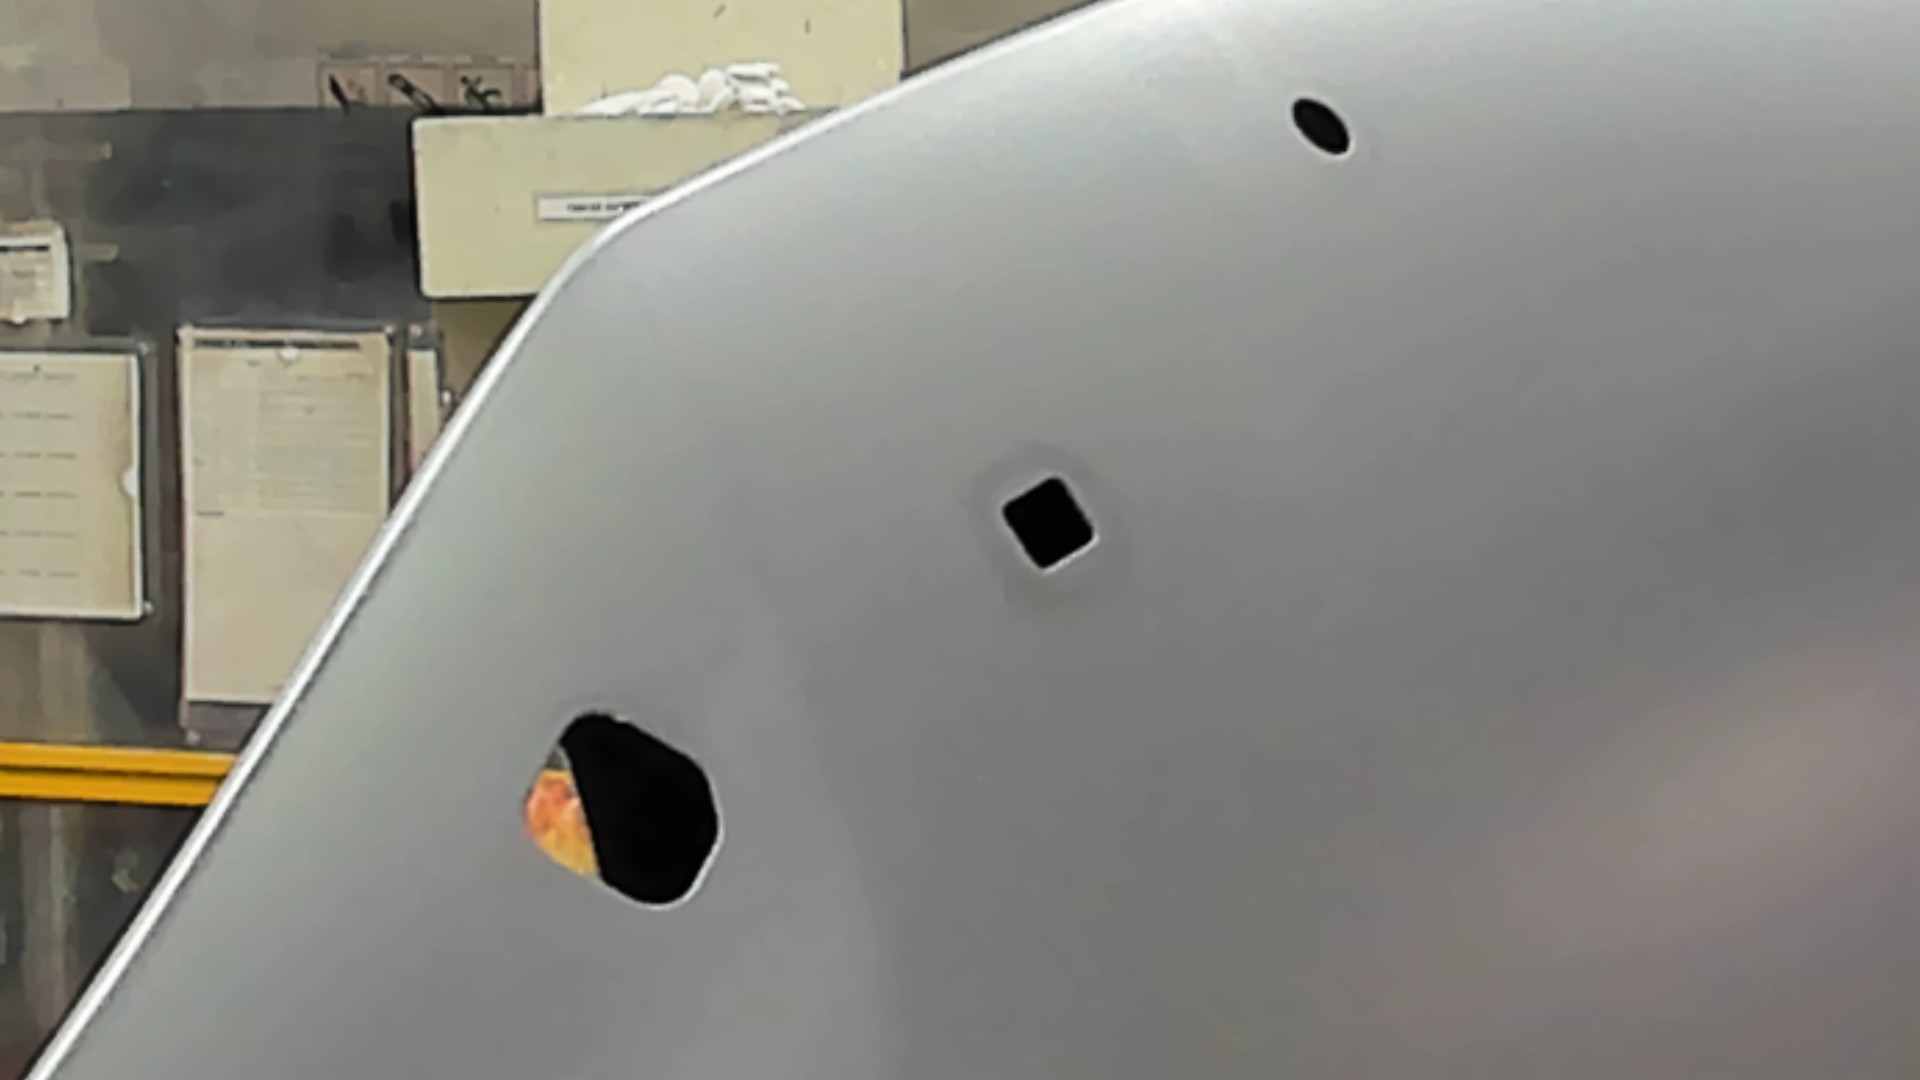chico: (1288, 95, 1356, 161)
grande: (513, 703, 728, 915)
mediano: (996, 467, 1102, 582)
